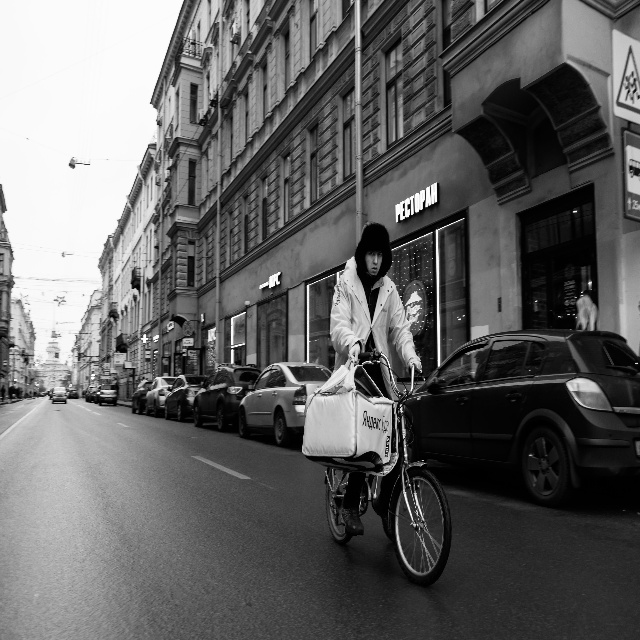Sin_guantes: (348, 341, 361, 365), (409, 359, 422, 372)
